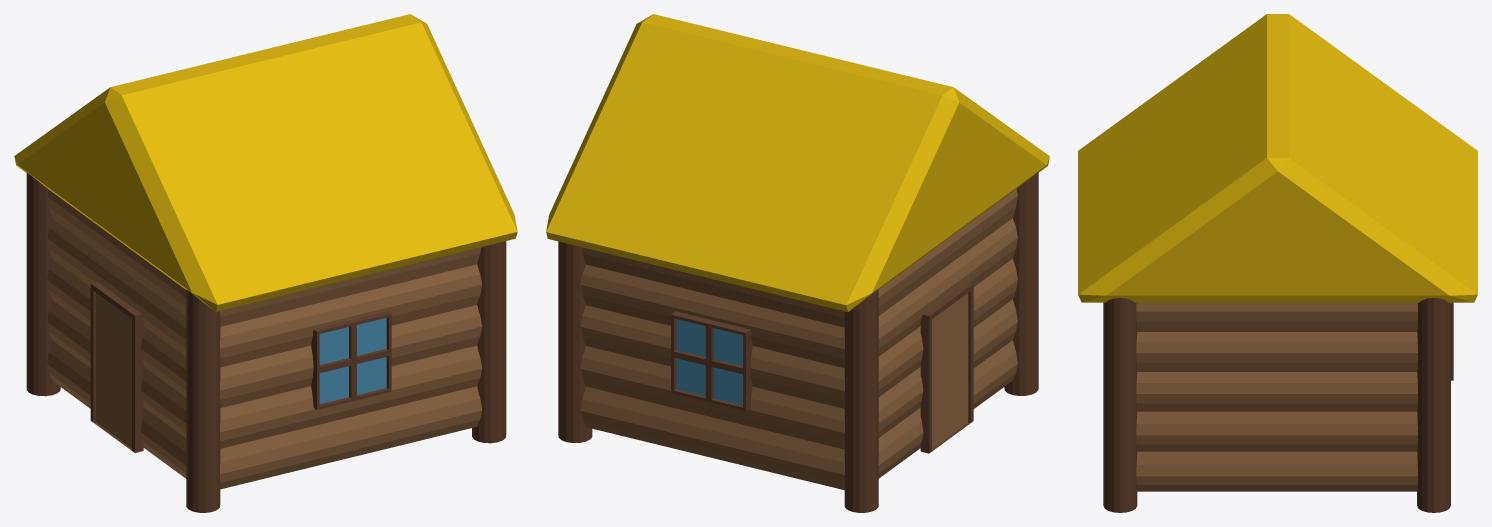
Rendered from House.dae.
3 views of the same model, side by side, from view 1: azimuth 30°, elevation 25°; view 2: azimuth 150°, elevation 25°; view 3: azimuth 270°, elevation 25° (orthographic).
Visible parts, largest first — view 1: Cube; view 2: Cube; view 3: Cube.
Part boxes in pixels (bbox=[...]): Cube: bbox=[14, 14, 517, 512]; Cube: bbox=[546, 14, 1049, 512]; Cube: bbox=[1078, 14, 1477, 512].
Size of the model in its own units: 2.25 by 2.46 by 2.39.
1 material, 1 textured.
